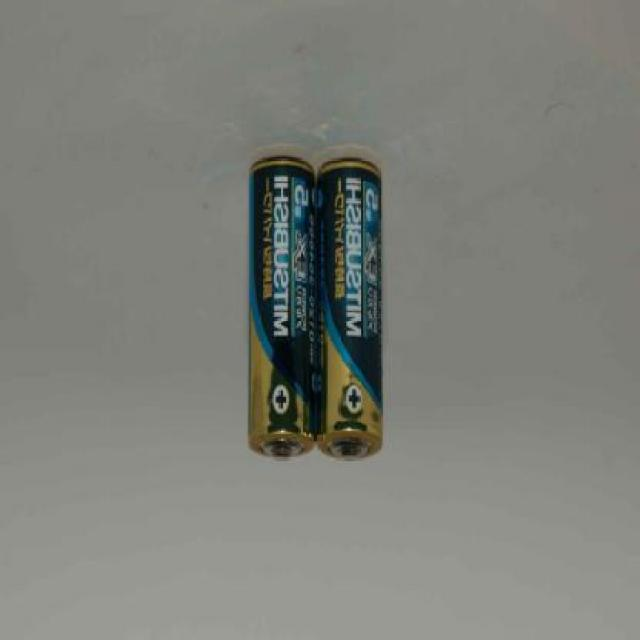AA: (242, 150, 316, 464), (316, 157, 386, 463)
